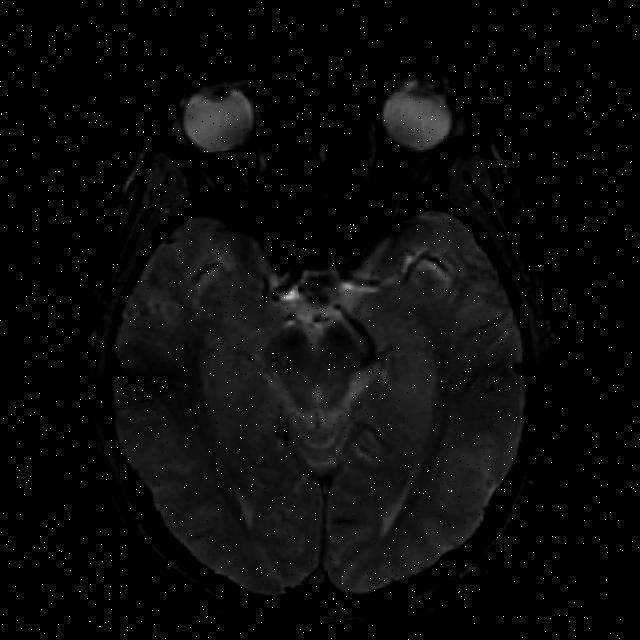EMCI: (115, 347, 214, 441), (399, 235, 468, 304)
